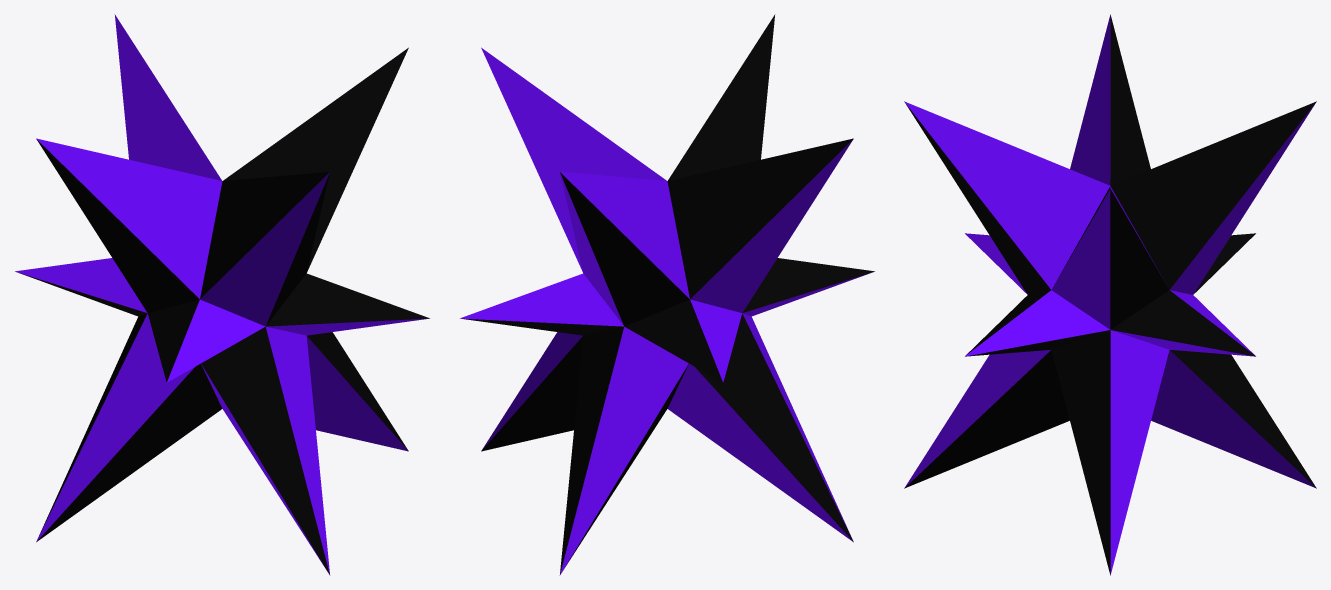
File: star_lowpoly.fbx
3 views of the same model, side by side, from view 1: azimuth 30°, elevation 25°; view 2: azimuth 150°, elevation 25°; view 3: azimuth 270°, elevation 25° (orthographic). The views are drawn at different scales.
Parts seen in each view (by area): view 1: star; view 2: star; view 3: star.
Part boxes in pixels (bbox=[...]): star: bbox=[15, 14, 429, 575]; star: bbox=[460, 14, 874, 575]; star: bbox=[904, 14, 1316, 575].
Bounding box in the file's own units: 1632464 × 1689865 × 1632464.
